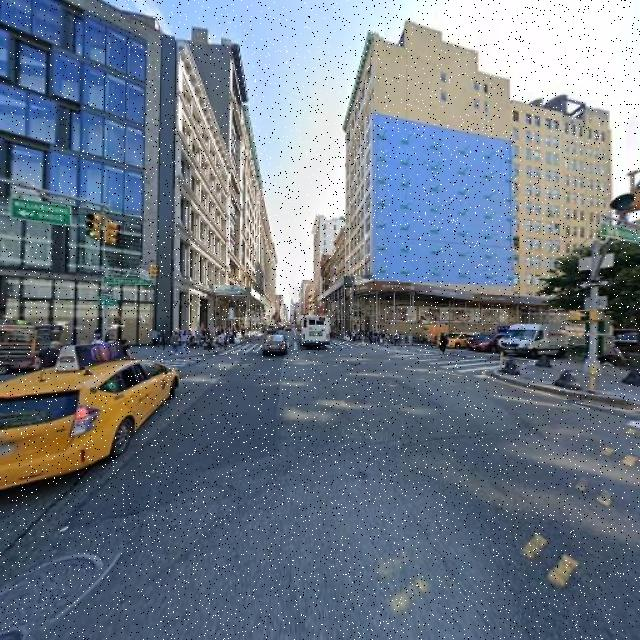Building: (1, 1, 229, 350), (345, 45, 608, 328)
